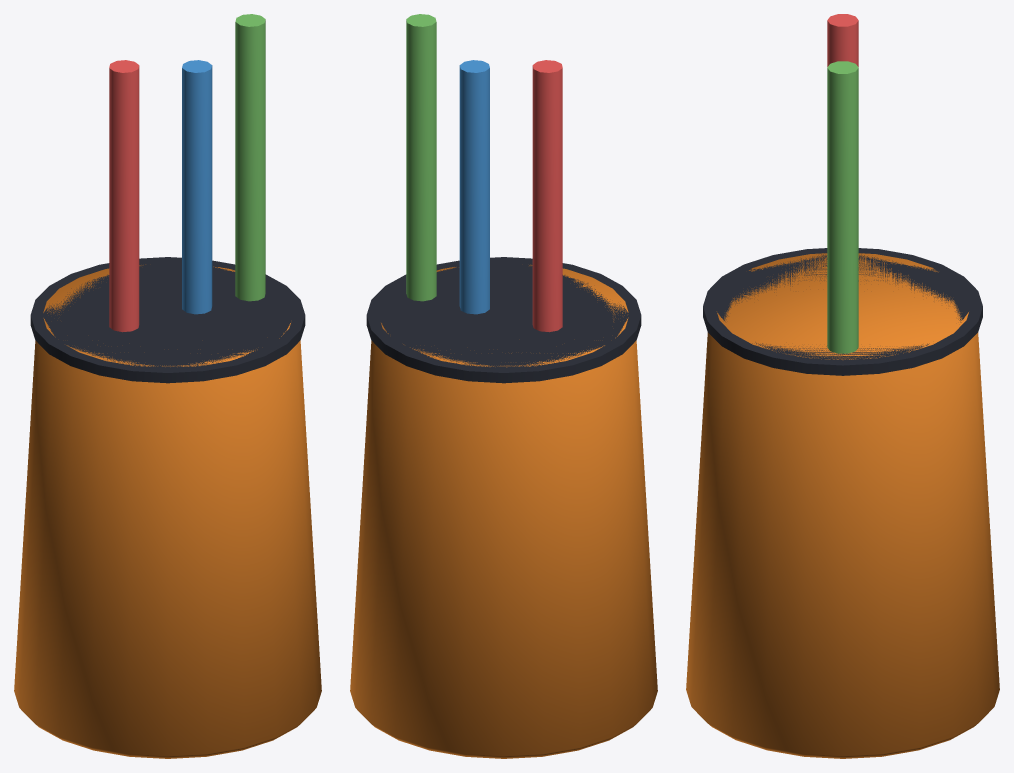
File: prop_pen_cup_v2.glb
The picture shows the model from 3 angles, left to right: view 1: azimuth 30°, elevation 25°; view 2: azimuth 150°, elevation 25°; view 3: azimuth 270°, elevation 25°; orthographic projection.
Parts seen in each view (by area): view 1: PenCupV2; view 2: PenCupV2; view 3: PenCupV2.
Part boxes in pixels (<box>): PenCupV2: <box>14,14,321,758</box>; PenCupV2: <box>350,14,657,758</box>; PenCupV2: <box>686,14,999,758</box>.
Bounding box in the file's own units: 1.1 × 2.58 × 1.1.
